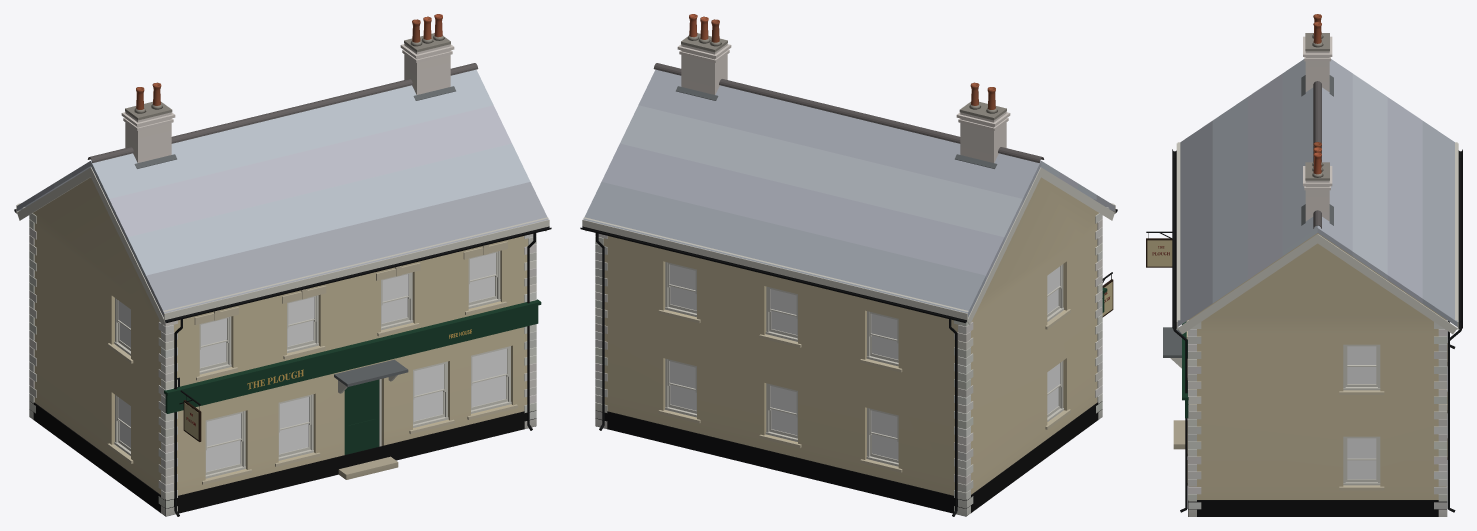
Rendered from town_pub_a_lod1.glb.
3 renders of one model, left to right at view 1: azimuth 30°, elevation 25°; view 2: azimuth 150°, elevation 25°; view 3: azimuth 270°, elevation 25°, orthographic. The views are drawn at different scales.
Visible parts, largest first — view 1: body; view 2: body; view 3: body.
Part boxes in pixels (<box>): body: <box>14,14,551,516</box>; body: <box>580,14,1117,516</box>; body: <box>1146,14,1462,516</box>.
Size of what is drawn, in the model's own units: 11.48 by 10.45 by 8.6.
